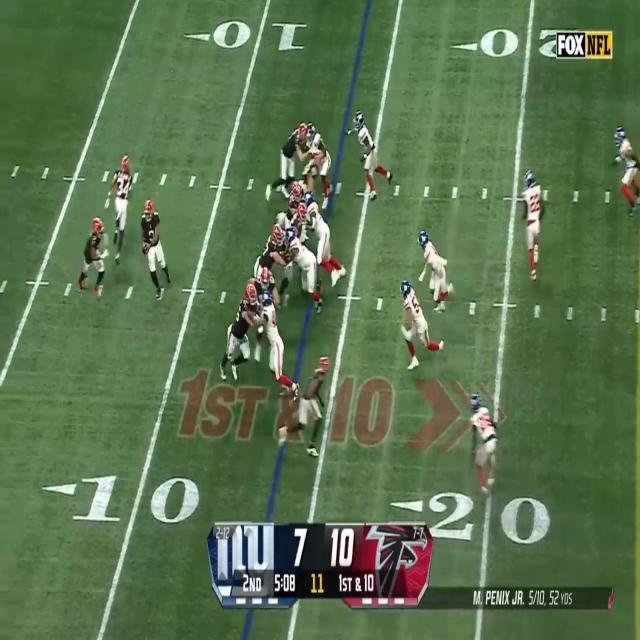Ball: (141, 237, 150, 259)
